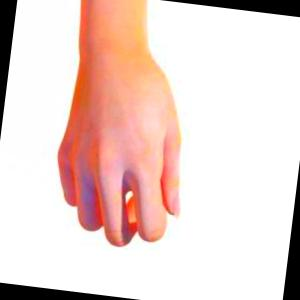rock: (59, 0, 182, 245)
